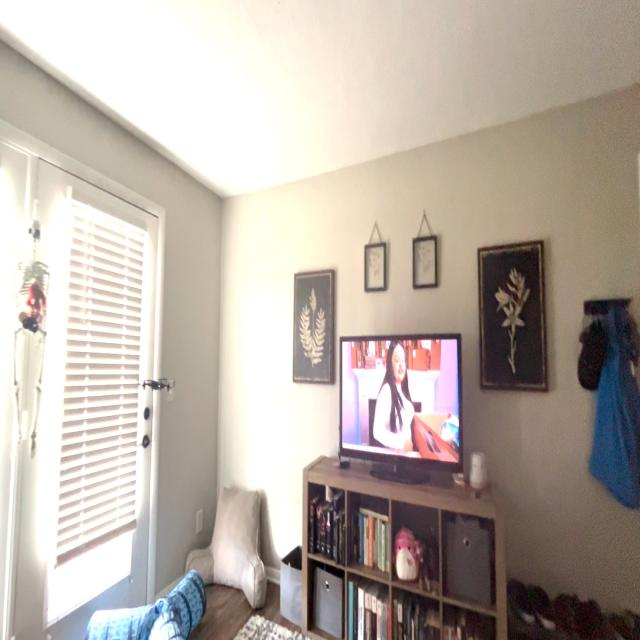drone: (132, 363, 180, 407)
